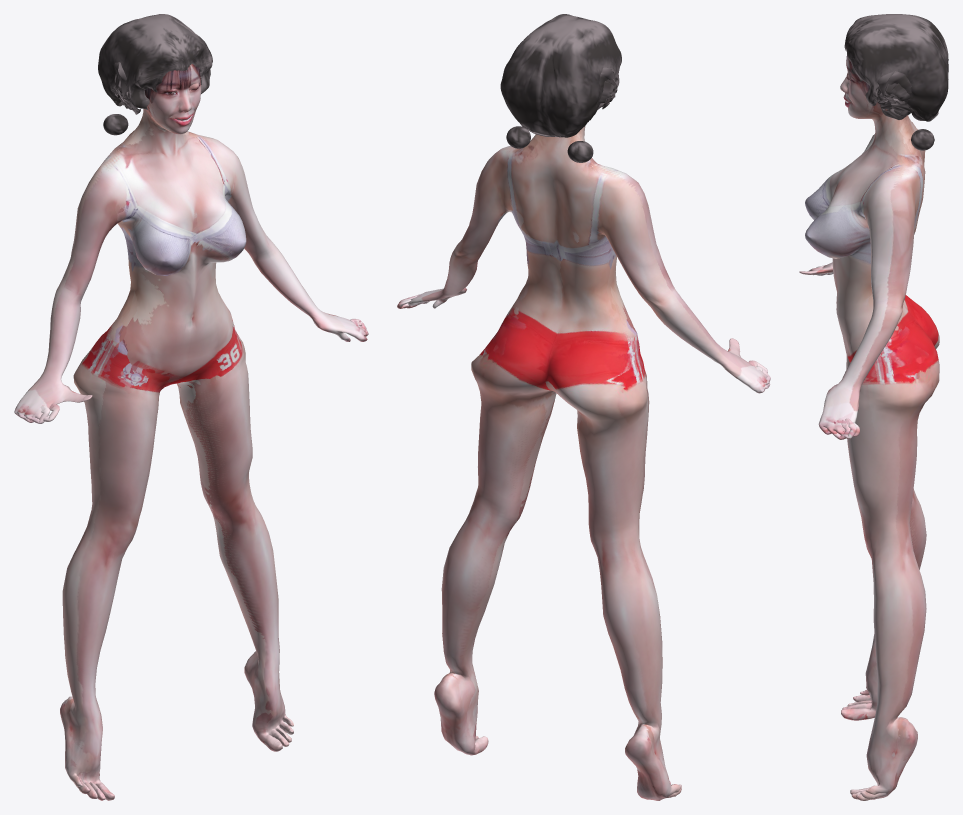
Rendered from gyeonjahee.glb.
3 views of the same model, side by side, from view 1: azimuth 30°, elevation 25°; view 2: azimuth 150°, elevation 25°; view 3: azimuth 270°, elevation 25° (orthographic). The views are drawn at different scales.
Parts seen in each view (by area): view 1: gyeonjahee; view 2: gyeonjahee; view 3: gyeonjahee.
Boxes of the visible parts, x1=… form: gyeonjahee: x1=14, y1=14, x2=368, y2=800; gyeonjahee: x1=397, y1=14, x2=770, y2=800; gyeonjahee: x1=799, y1=14, x2=948, y2=800.
Bounding box in the file's own units: 0.8165 × 1.65 × 0.3036.
3 materials, 1 textured.
